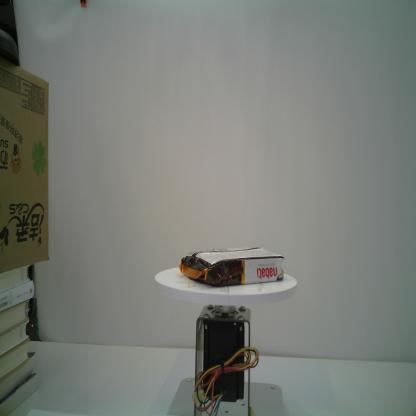Dessert: (177, 242, 287, 288)
